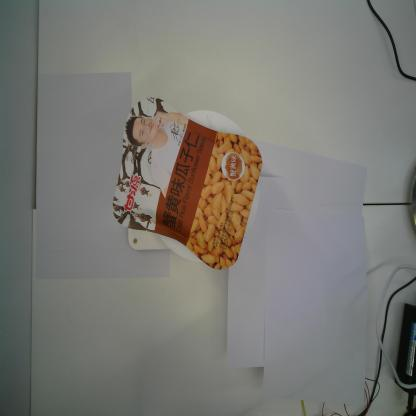Dried Fruit: (112, 95, 263, 270)
